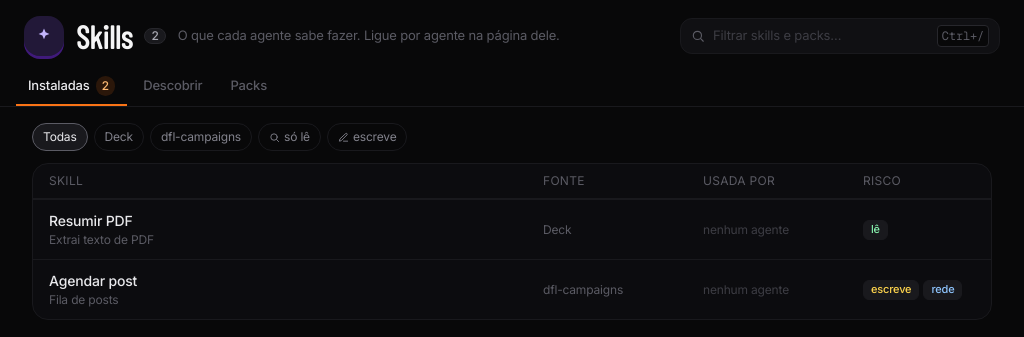
Test case: Skills catalog › lists installed skills with risk badges and source filter chips
Expected: the text "Resumir PDF" is shown, [49,212,133,229]
Expected: the number of buttons "escreve" is 2, [327,123,407,151]; [863,280,919,300]
Click the button "dfl-campaigns": [201, 137] box [150,123,252,151]
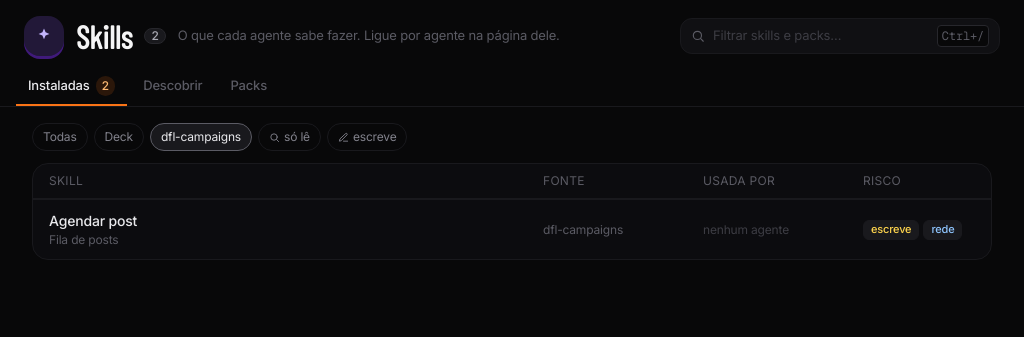
Expected: the text "Agendar post" is shown, [49,212,137,229]
Expected: the button "Resumir PDF" is gone
